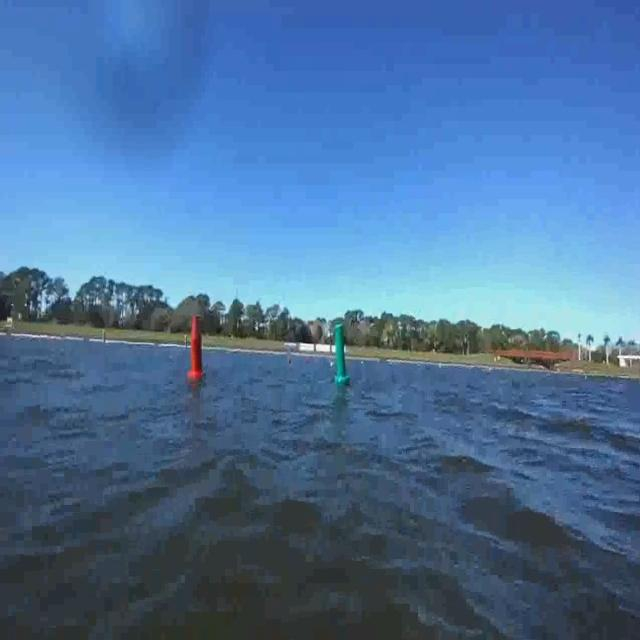green-column-buoy: (333, 322, 352, 386)
red-column-buoy: (187, 315, 204, 382)
